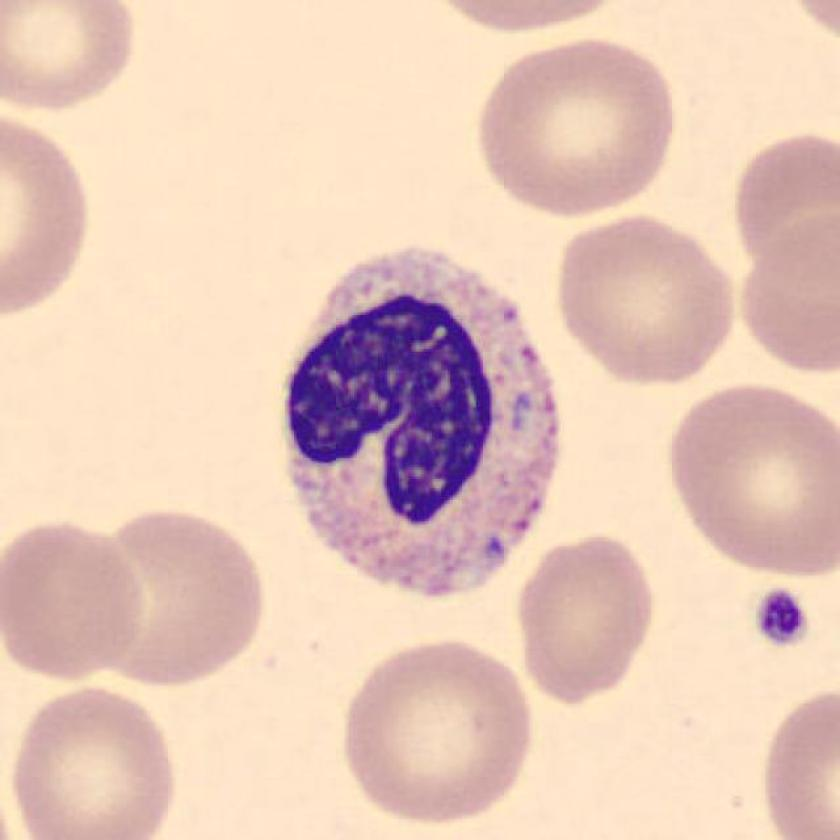neutrophil: (286, 248, 559, 600)
